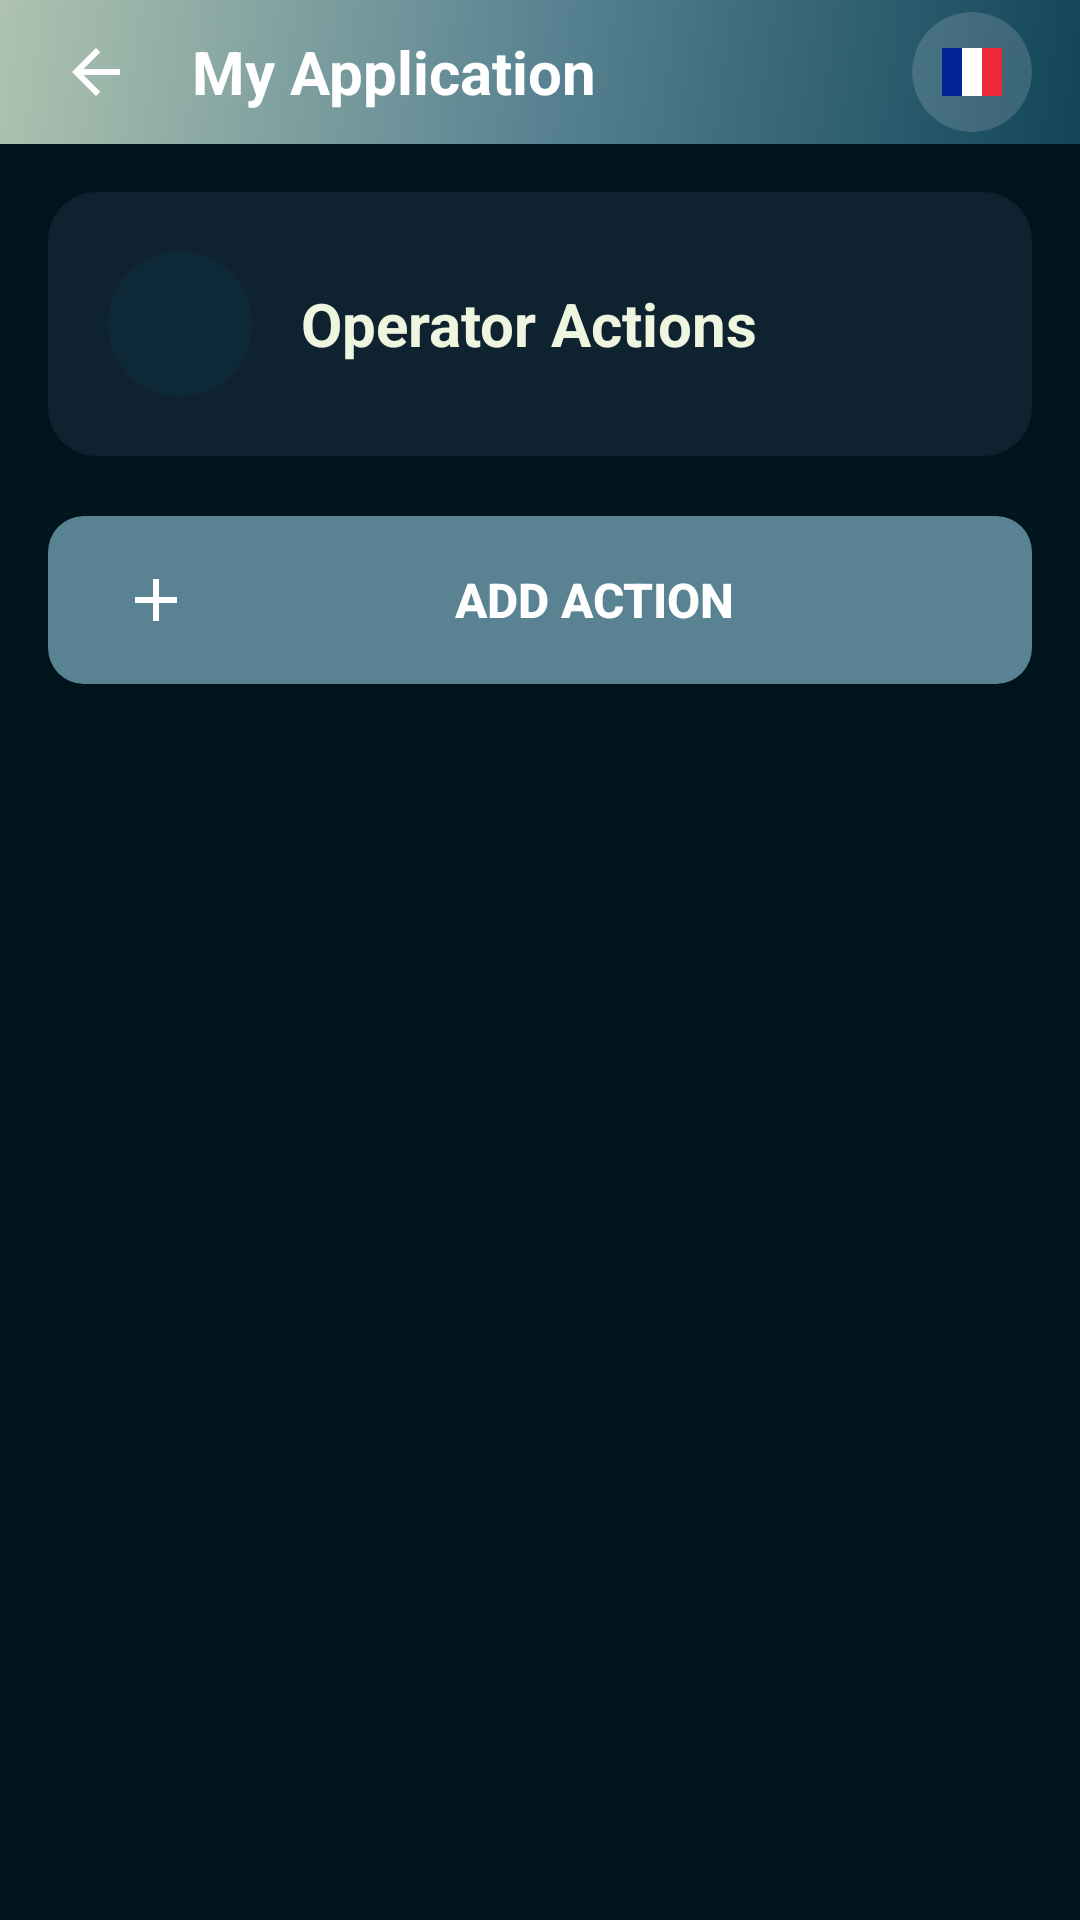

Screen size 1080×1920. Icon name, then its box in pixels as (x1, y1, x2, y2):
back: (72, 48, 120, 96)
flag fr: (942, 48, 1002, 96)
